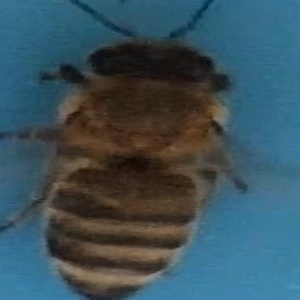bee: (5, 11, 263, 300)
